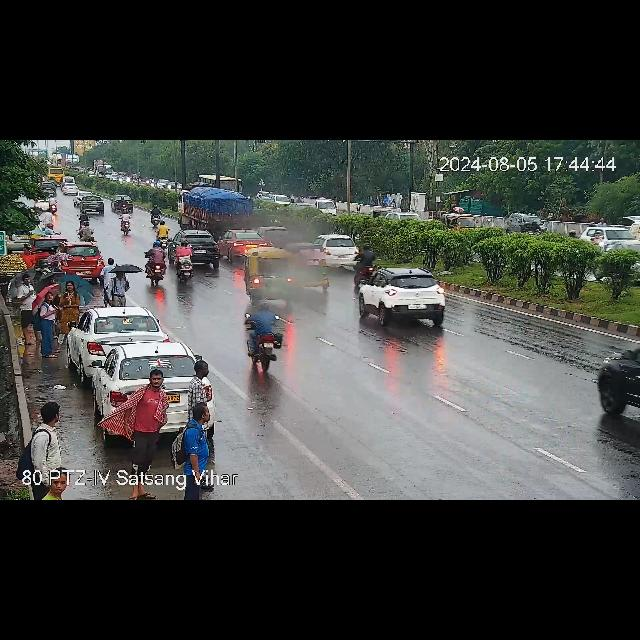bus: (203, 173, 241, 189)
car: (85, 340, 219, 410), (65, 307, 172, 367), (356, 268, 464, 326), (596, 326, 640, 419), (244, 247, 324, 297), (584, 227, 640, 261), (58, 244, 108, 276), (172, 230, 216, 262), (314, 236, 364, 264), (218, 230, 270, 252), (441, 214, 494, 233), (505, 212, 527, 234), (81, 198, 109, 215), (62, 182, 80, 194), (42, 180, 56, 194), (110, 194, 120, 212), (373, 207, 391, 217), (72, 192, 82, 204)
motorcycle: (248, 300, 286, 372), (142, 240, 170, 284), (352, 244, 380, 280), (171, 242, 195, 280), (156, 218, 170, 248), (118, 209, 134, 235), (146, 206, 164, 228), (521, 220, 545, 234), (78, 220, 90, 242), (48, 195, 58, 212), (78, 210, 92, 222), (592, 232, 602, 246), (46, 223, 59, 233), (122, 195, 126, 215)
person: (130, 367, 172, 449), (179, 406, 217, 476), (177, 360, 216, 420), (26, 398, 64, 459), (34, 286, 58, 354), (101, 260, 132, 304), (14, 273, 36, 329), (64, 278, 80, 310), (22, 244, 38, 266)
truck: (180, 190, 262, 230)
